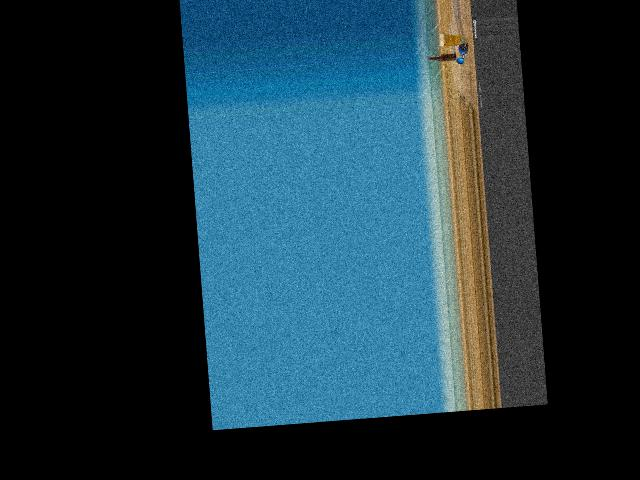beer: (428, 53, 456, 62)
